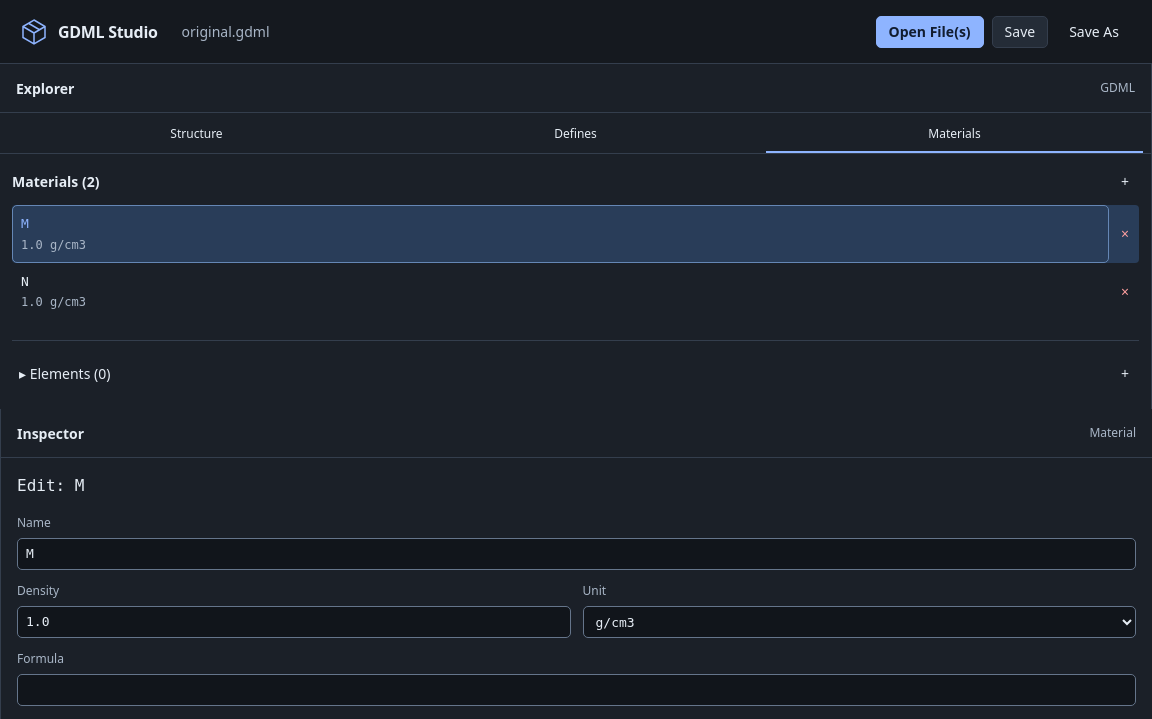
material drafts and document actions › keeps the material draft when switching between the volume and material inspector
Step 1. Replace the text in the field labelled "Density" with "3.25" → [294, 622], box x1=17 y1=606 x2=570 y2=638
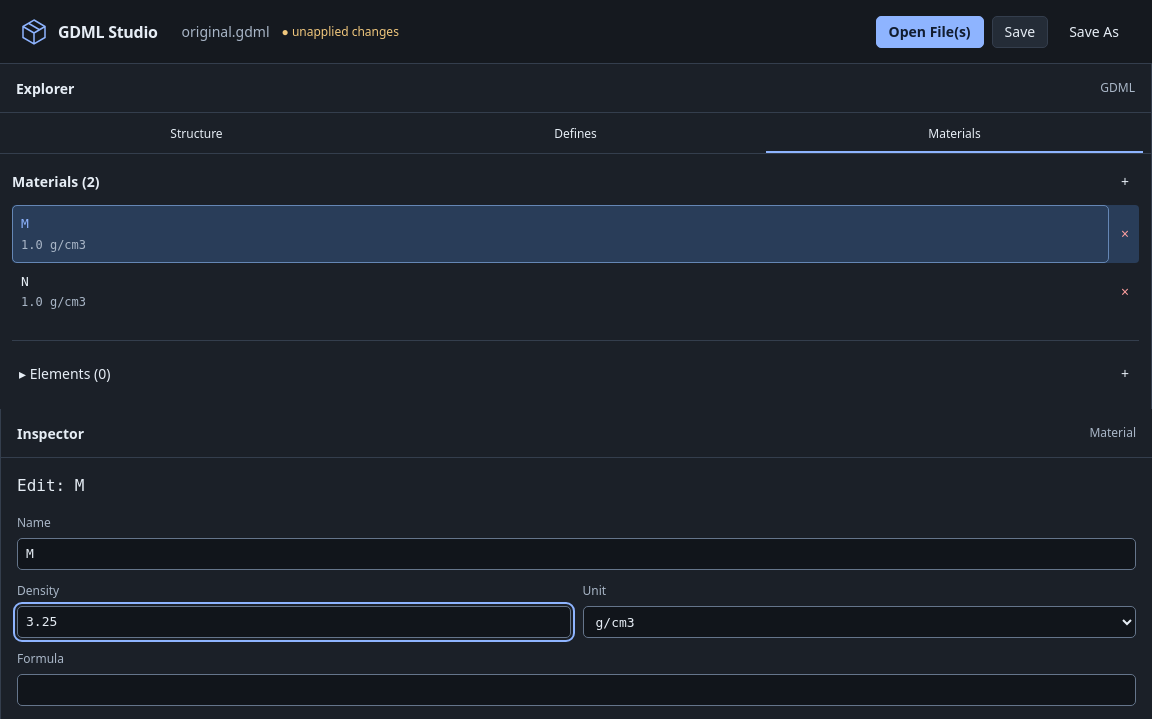
Step 2. Click the button "Structure" → [196, 135], box x1=8 y1=117 x2=385 y2=153
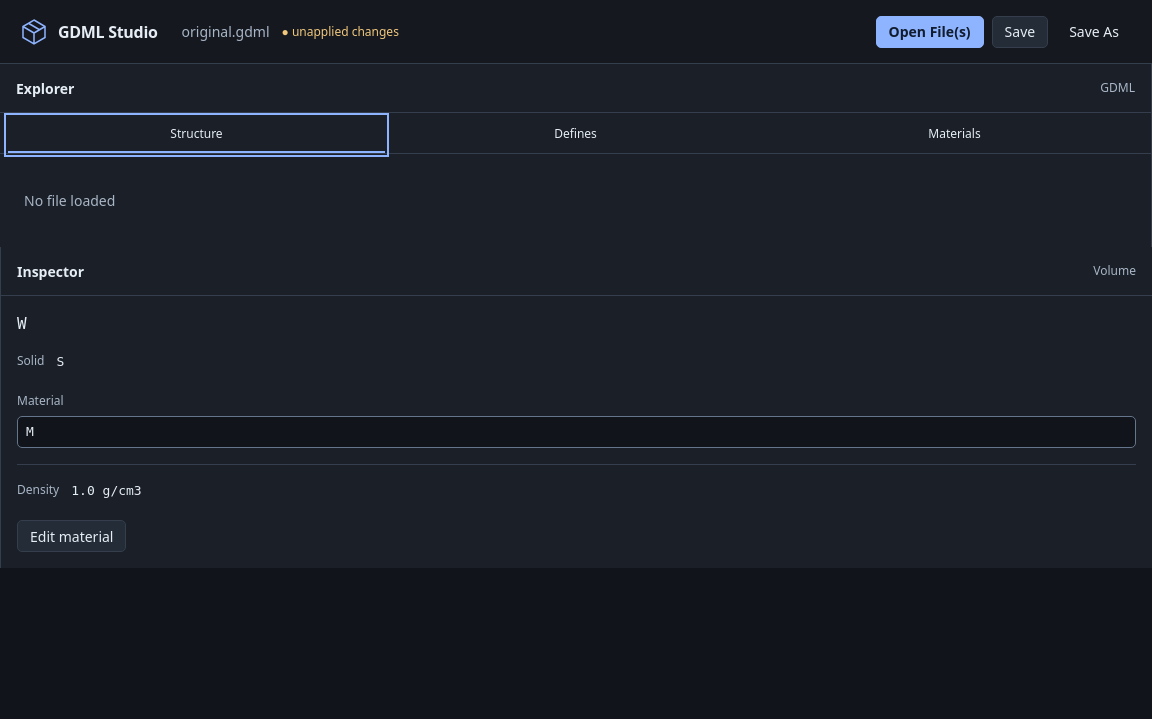
Expected: the dropdown labelled "Material" holds "M", x1=17 y1=416 x2=1136 y2=448
Step 3. Click the button "Defines" → [576, 135], box x1=387 y1=117 x2=764 y2=153
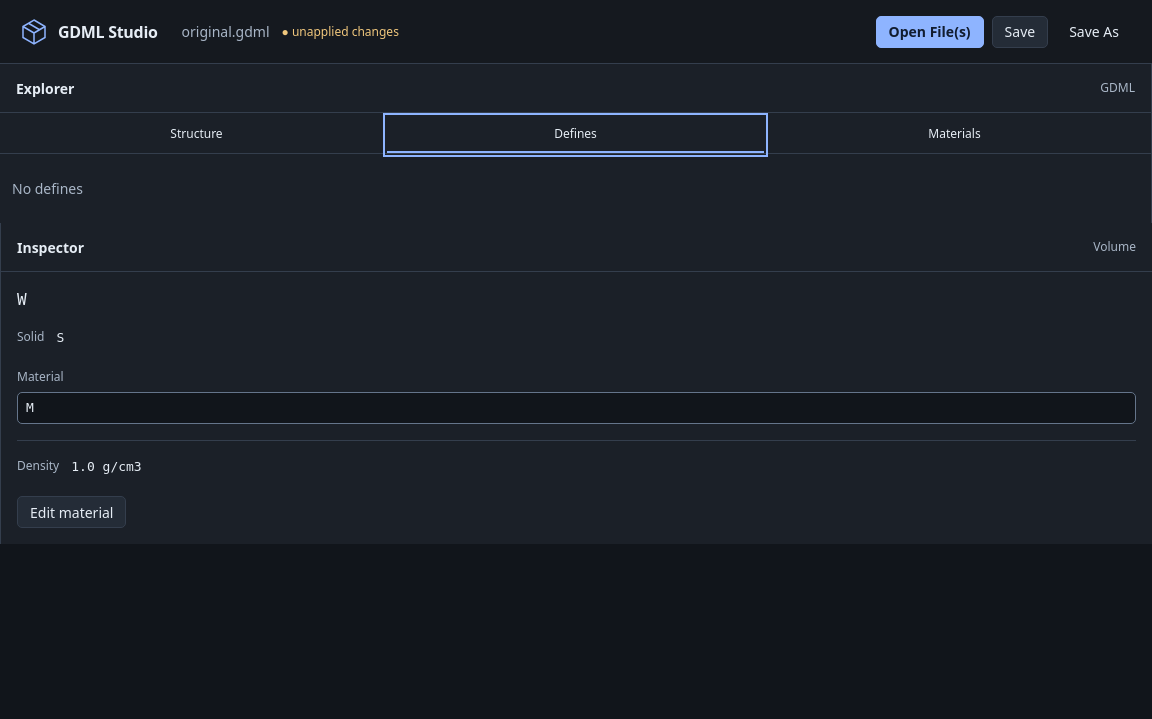
Expected: the dropdown labelled "Material" holds "M", x1=17 y1=392 x2=1136 y2=424
Step 4. Click the button "Materials" → [954, 135], box x1=766 y1=117 x2=1143 y2=153
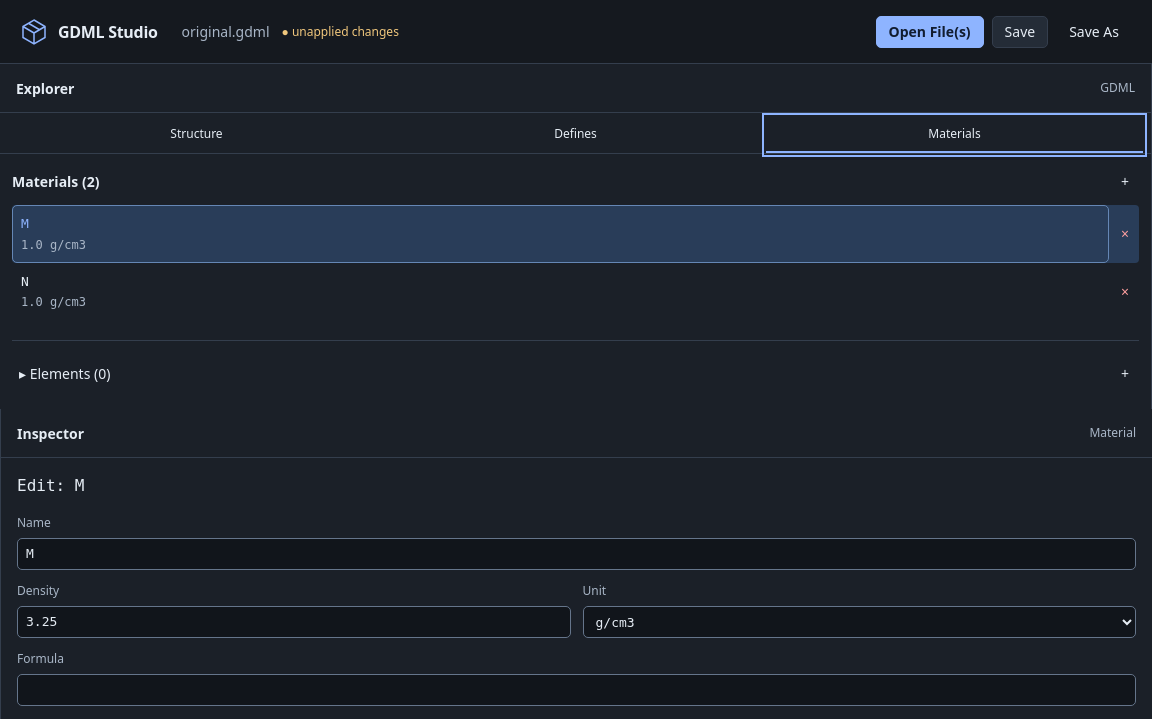
Expected: the field labelled "Density" holds "3.25", x1=17 y1=606 x2=570 y2=638
